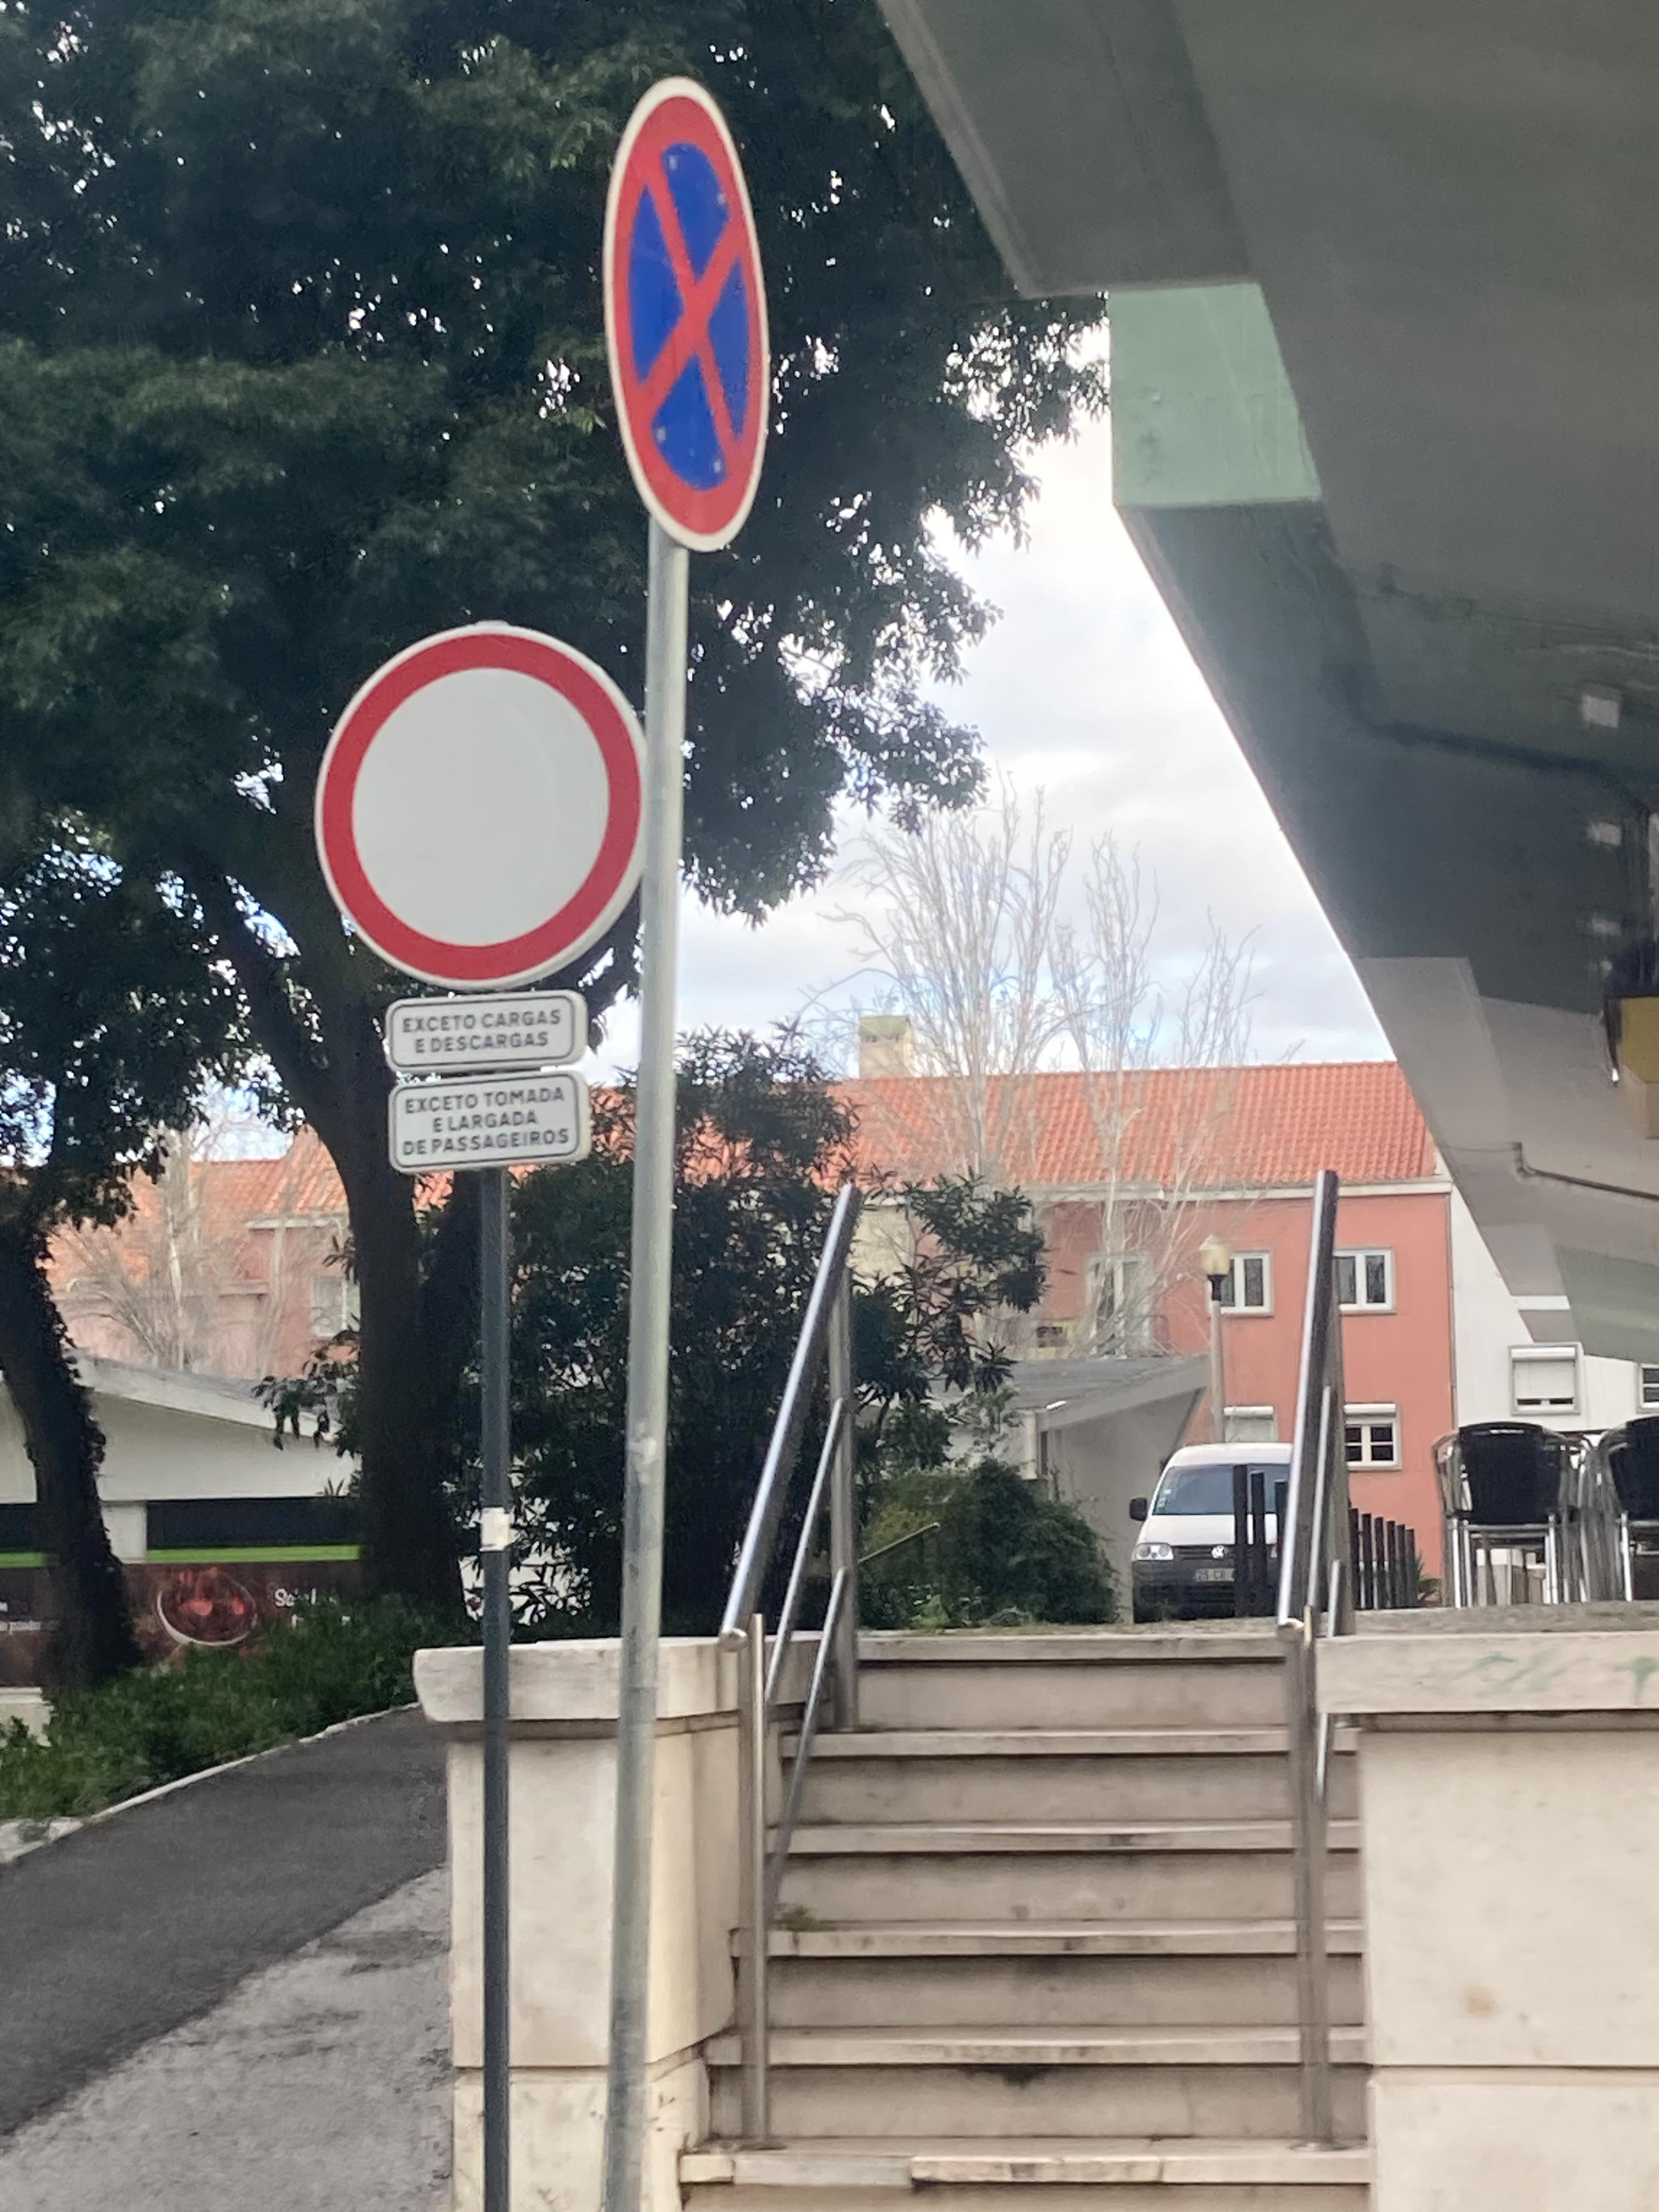Paragem e estacionamento proibidos: (587, 77, 795, 559)
transito proibido: (291, 620, 659, 988)
